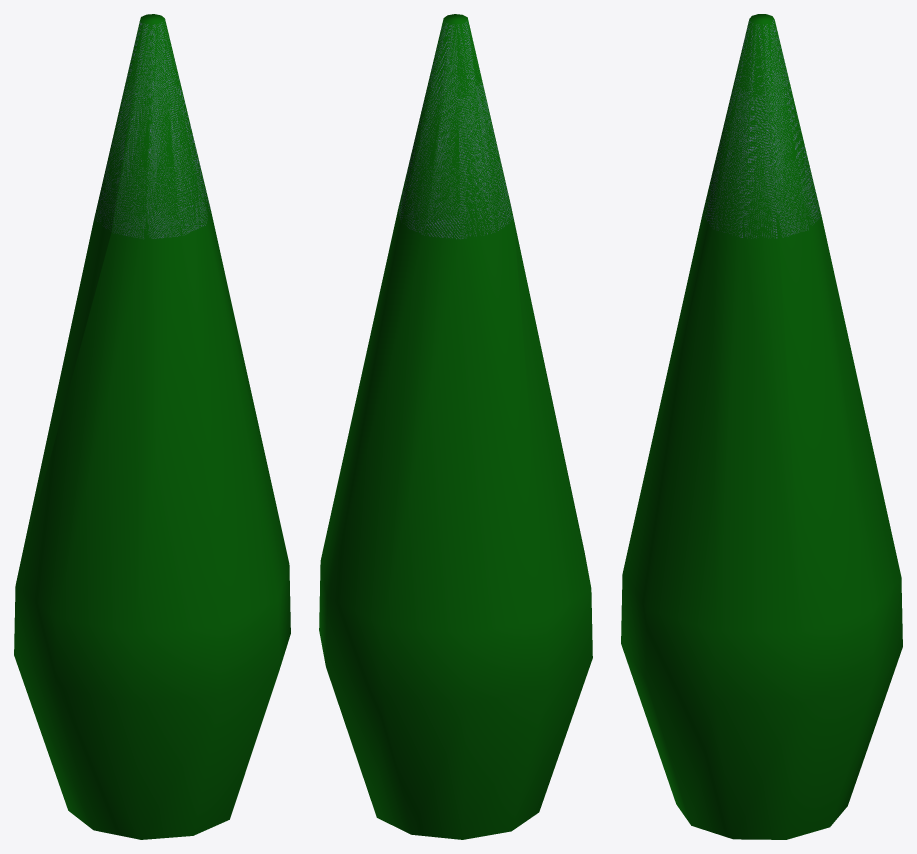
3 renders of one model, left to right at view 1: azimuth 30°, elevation 25°; view 2: azimuth 150°, elevation 25°; view 3: azimuth 270°, elevation 25°, orthographic.
Visible parts, largest first — view 1: SketchUp (×2); view 2: SketchUp (×2); view 3: SketchUp (×2).
Part boxes in pixels (left/top/right/bottom): SketchUp (×2): left=14, top=19, right=290, bottom=839; SketchUp (×2): left=319, top=19, right=592, bottom=839; SketchUp (×2): left=621, top=19, right=902, bottom=839.
Size of the model in its own units: 71.46 by 74.5 by 229.
